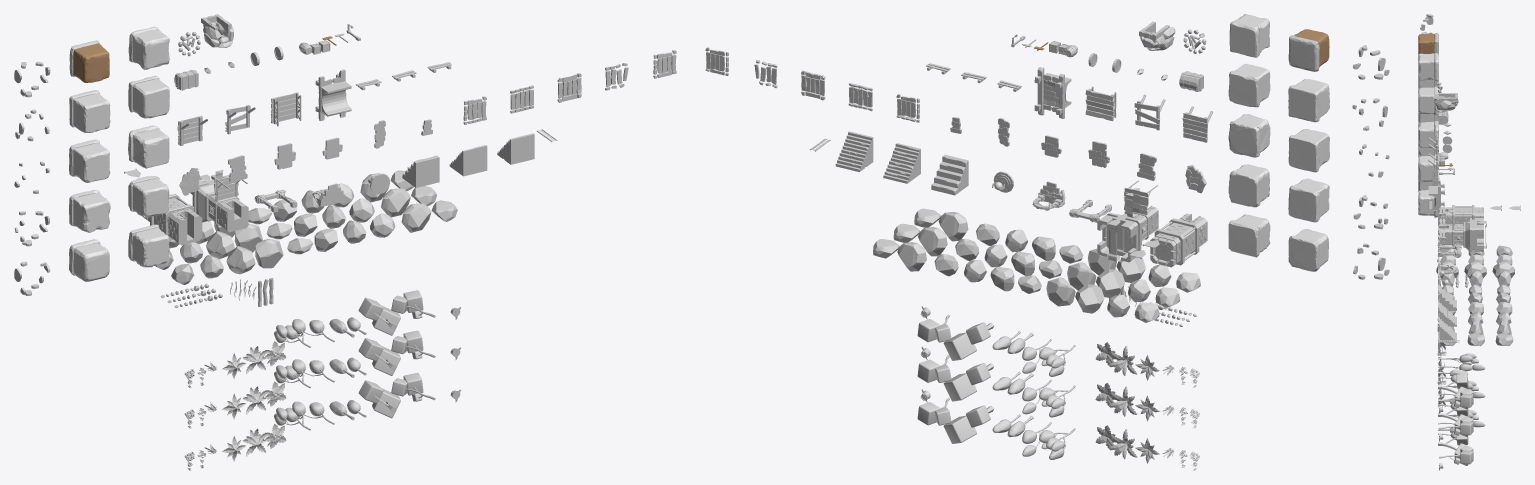
File: HYPEPOLY_Isometric_Tiles_Standart.fbx
3 renders of one model, left to right at view 1: azimuth 30°, elevation 25°; view 2: azimuth 150°, elevation 25°; view 3: azimuth 270°, elevation 25°, orthographic. The views are drawn at different scales.
Parts seen in each view (by area): view 1: TowerV1, TowerV2, TileBotFlat.005, TileBotFlat.008, TileBotFlat.004, Bridge.002, TileBotFlat.001, TileBotFlat.002, TileBotFlat.009, TileBotFlat.006, TileBotFlat.007, TileBotFlat.000 (+13 smaller); view 2: TowerV2, TowerV1, Bridge.002, StonesLadder.001, StonesLadder.000, StonesLadder.002, TileTopFlat.006, TileTopFlat.001, TileTopFlat.009, TreeV3.003, TileTopFlat.003, TreeV3.004 (+10 smaller); view 3: TowerV1, TowerV2, TileBotFlat.004, TileBotFlat.005, TileBotFlat.006, Cube, TileBotFlat.007, Bridge.002, TreeV3.000, TileBotFlat.000, TileBotFlat.008, TreeV3.002 (+35 smaller).
Part boxes in pixels (x1=…): TowerV1: x1=190, y1=174, x2=248, y2=232; TowerV2: x1=145, y1=193, x2=202, y2=245; TileBotFlat.005: x1=132, y1=79, x2=169, y2=118; TileBotFlat.008: x1=132, y1=227, x2=169, y2=267; TileBotFlat.004: x1=132, y1=29, x2=169, y2=69; Bridge.002: x1=315, y1=69, x2=351, y2=121; TileBotFlat.001: x1=73, y1=93, x2=110, y2=132; TileBotFlat.002: x1=73, y1=192, x2=110, y2=232; TileBotFlat.009: x1=73, y1=143, x2=110, y2=182; TileBotFlat.006: x1=133, y1=128, x2=169, y2=168; TileBotFlat.007: x1=132, y1=178, x2=169, y2=218; TileBotFlat.000: x1=73, y1=43, x2=109, y2=82; TowerV2: x1=1150, y1=213, x2=1207, y2=267; TowerV1: x1=1097, y1=205, x2=1158, y2=262; Bridge.002: x1=1034, y1=67, x2=1071, y2=118; StonesLadder.001: x1=931, y1=154, x2=968, y2=195; StonesLadder.000: x1=835, y1=131, x2=873, y2=171; StonesLadder.002: x1=883, y1=143, x2=920, y2=183; TileTopFlat.006: x1=1228, y1=70, x2=1260, y2=107; TileTopFlat.001: x1=1288, y1=85, x2=1319, y2=122; TileTopFlat.009: x1=1228, y1=170, x2=1260, y2=207; TreeV3.003: x1=943, y1=363, x2=993, y2=401; TileTopFlat.003: x1=1288, y1=185, x2=1319, y2=222; TreeV3.004: x1=943, y1=405, x2=993, y2=443; TowerV1: x1=1439, y1=218, x2=1483, y2=251; TowerV2: x1=1439, y1=205, x2=1483, y2=224; TileBotFlat.004: x1=1418, y1=53, x2=1434, y2=80; TileBotFlat.005: x1=1418, y1=87, x2=1434, y2=114; TileBotFlat.006: x1=1418, y1=121, x2=1434, y2=148; Cube: x1=1433, y1=93, x2=1458, y2=112; TileBotFlat.007: x1=1418, y1=156, x2=1434, y2=181; Bridge.002: x1=1428, y1=179, x2=1445, y2=218; TreeV3.000: x1=1438, y1=374, x2=1473, y2=409; TileBotFlat.000: x1=1418, y1=33, x2=1434, y2=54; TileBotFlat.008: x1=1418, y1=190, x2=1434, y2=215; TreeV3.002: x1=1439, y1=416, x2=1473, y2=435.
Size of the model in its own units: 5614 by 3757 by 1090.
